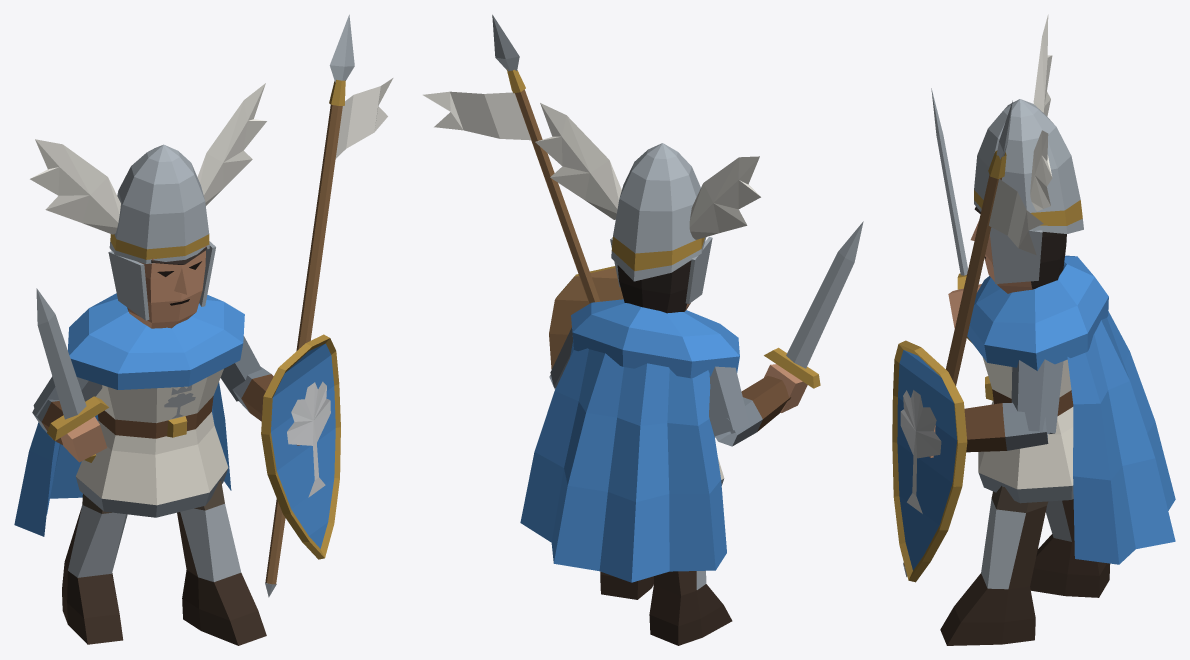
The model's file is beregond-3.glb.
The picture shows the model from 3 angles, left to right: view 1: azimuth 30°, elevation 25°; view 2: azimuth 150°, elevation 25°; view 3: azimuth 270°, elevation 25°; orthographic projection. The views are drawn at different scales.
Visible parts, largest first — view 1: beregond-3; view 2: beregond-3; view 3: beregond-3.
Boxes of the visible parts, x1,y1,x2,y2 form: beregond-3: [14, 14, 393, 645]; beregond-3: [423, 14, 863, 645]; beregond-3: [892, 14, 1175, 645].
Bounding box in the file's own units: 1.43 × 1.91 × 0.8096.
